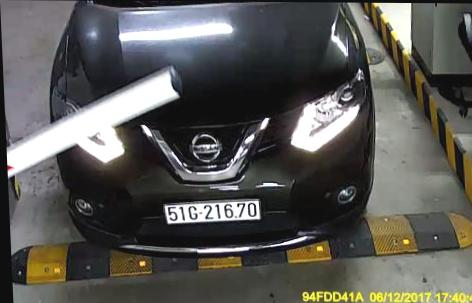License_Plate: (161, 196, 263, 227)
